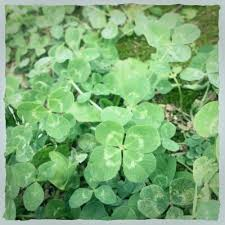4-clover: (89, 121, 157, 182)
